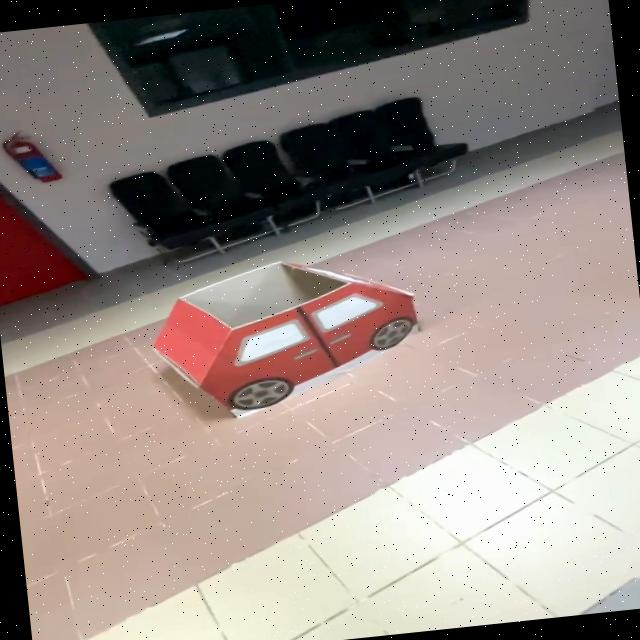red_car: (108, 232, 477, 435)
